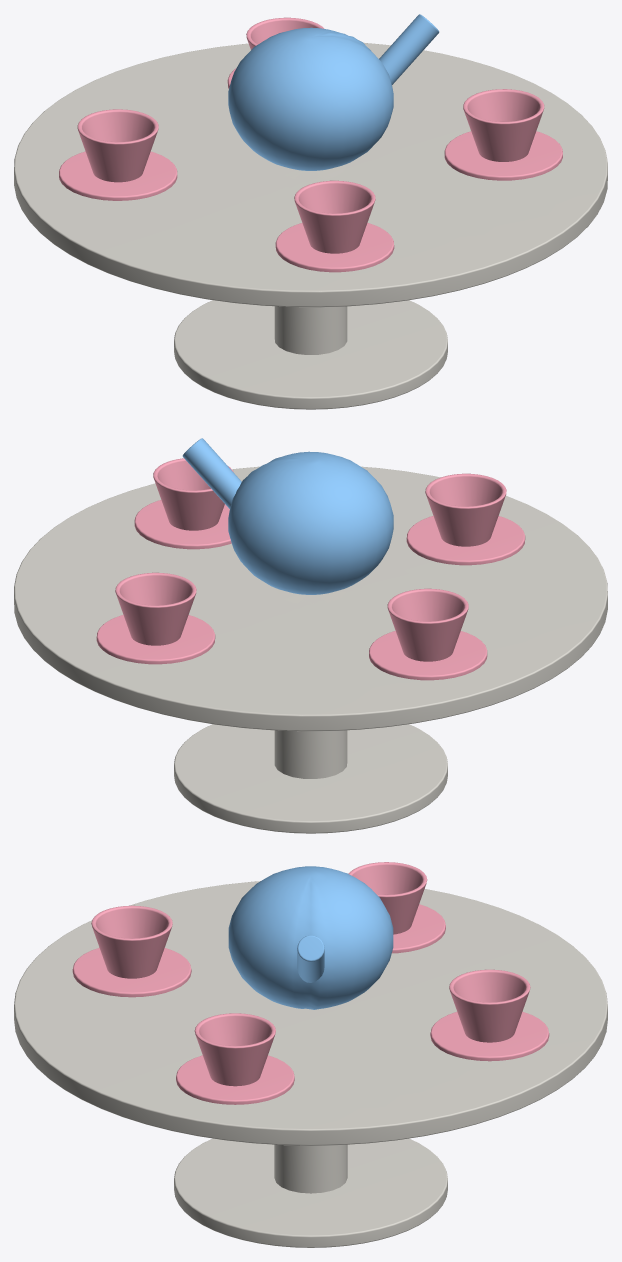
The model's file is tea_table.glb.
3 renders of one model, top to bottom at view 1: azimuth 30°, elevation 25°; view 2: azimuth 150°, elevation 25°; view 3: azimuth 270°, elevation 25°, orthographic.
Visible parts, largest first — view 1: tea_table.001; view 2: tea_table.001; view 3: tea_table.001.
Boxes of the visible parts, <box> form: tea_table.001: <box>14,14,607,409</box>; tea_table.001: <box>14,438,607,833</box>; tea_table.001: <box>14,862,607,1247</box>.
Bounding box in the file's own units: 26 × 15.23 × 26.
